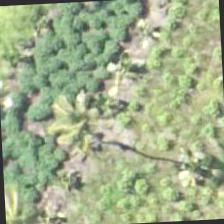Kelapa_Sawit: (3, 177, 59, 223)
